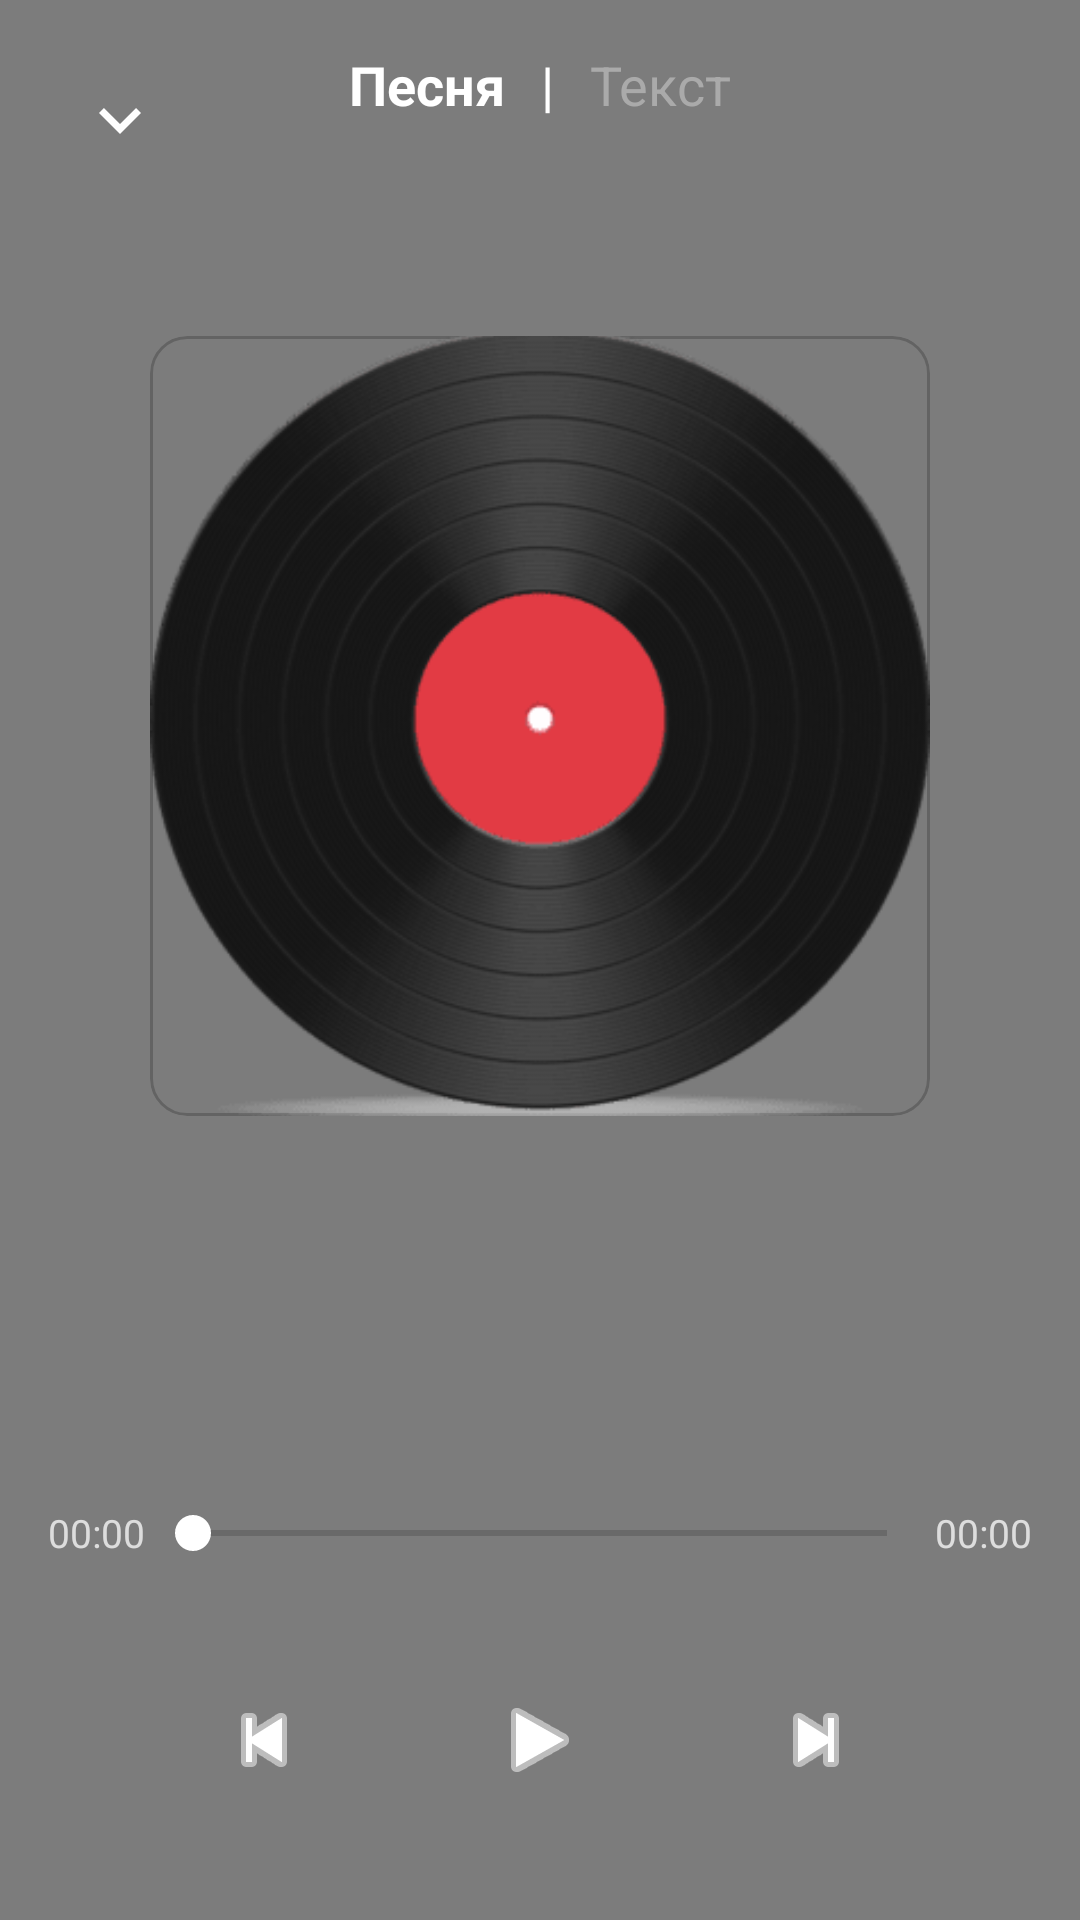

Icons on this 1080x1920 Android screen, each with its box as (x1, y1, x2, y2):
Плей/Пауза: (511, 1708, 569, 1772)
Предыдущий трек: (241, 1713, 287, 1767)
Свернуть: (99, 108, 141, 134)
Следующий трек: (793, 1713, 839, 1767)
